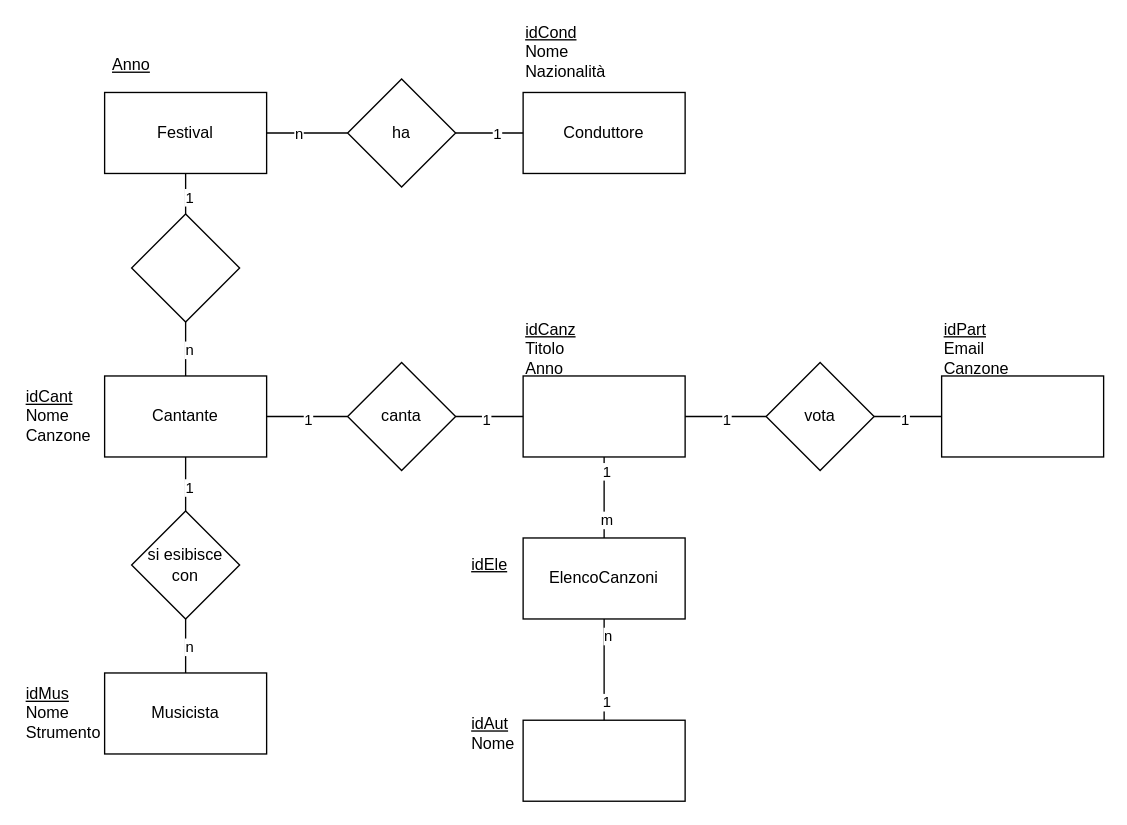
The diagram is 1127 pixels wide and 825 high, and some of its shapes have lost their labels. Each missing label, with the centre of its shape:
Autore: [603,760]
Canzone: [603,416]
Partecipante: [1022,416]
si esibisce: [185,267]
